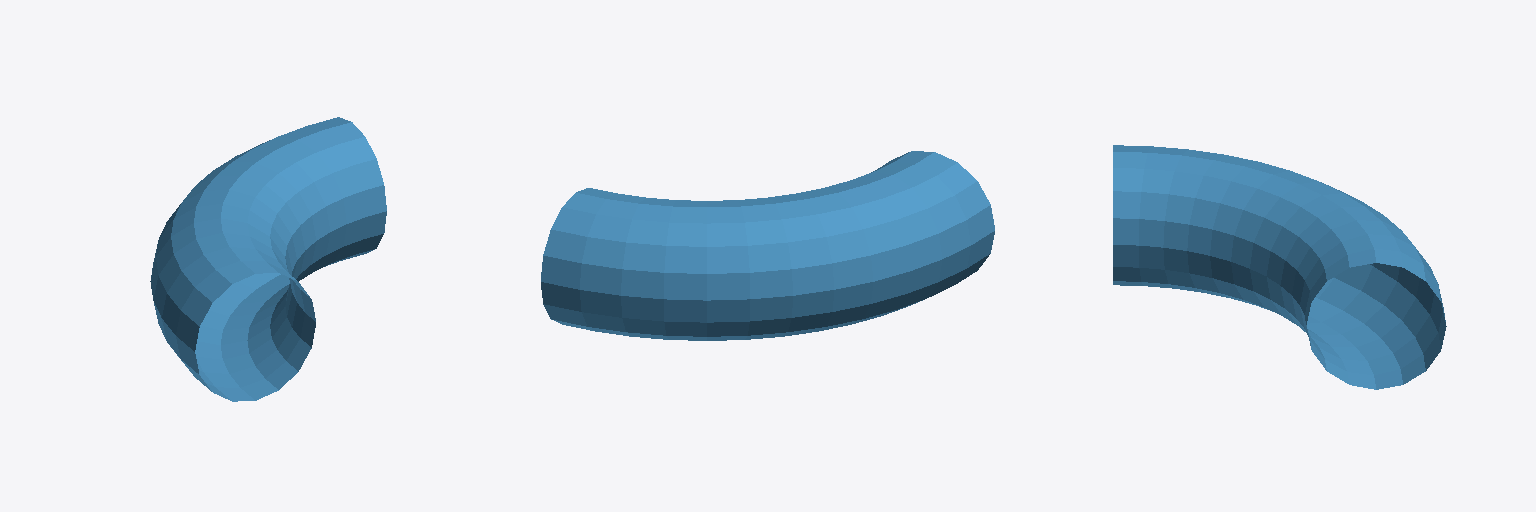
The model's file is pipe-curve-2.obj.
The picture shows the model from 3 angles: view 1: azimuth 30°, elevation 25°; view 2: azimuth 150°, elevation 25°; view 3: azimuth 270°, elevation 25°; orthographic projection.
Visible parts, largest first — view 1: Torus; view 2: Torus; view 3: Torus.
Part boxes in pixels (left/top/right/bottom): Torus: left=150, top=117, right=386, bottom=401; Torus: left=541, top=151, right=994, bottom=340; Torus: left=1113, top=145, right=1446, bottom=389.
Size of the model in its own units: 1.9 by 0.8 by 1.9.